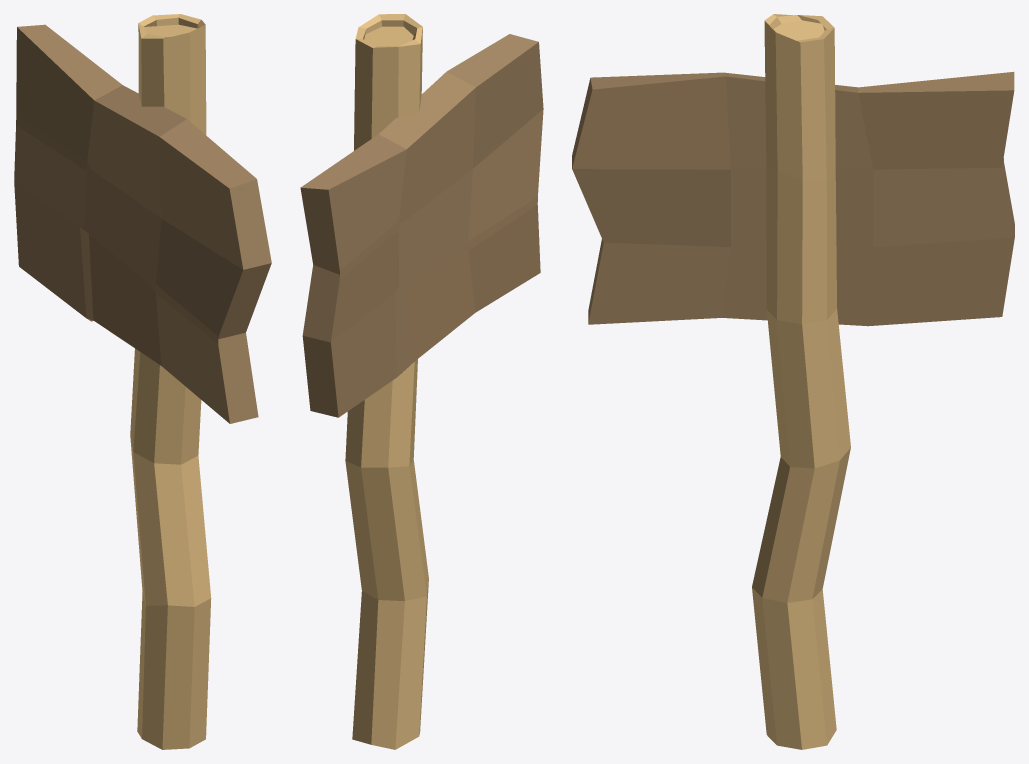
File: sign.fbx
3 views of the same model, side by side, from view 1: azimuth 30°, elevation 25°; view 2: azimuth 150°, elevation 25°; view 3: azimuth 270°, elevation 25° (orthographic).
Parts seen in each view (by area): view 1: Cube, Cylinder; view 2: Cube, Cylinder; view 3: Cube, Cylinder.
Boxes of the visible parts, x1,y1,x2,y2 form: Cube: (14, 24, 271, 423); Cylinder: (130, 14, 211, 749); Cube: (300, 34, 543, 417); Cylinder: (345, 14, 428, 749); Cube: (572, 72, 1014, 326); Cylinder: (752, 14, 850, 749).
Size of the model in its own units: 0.4236 by 3.41 by 1.92.
